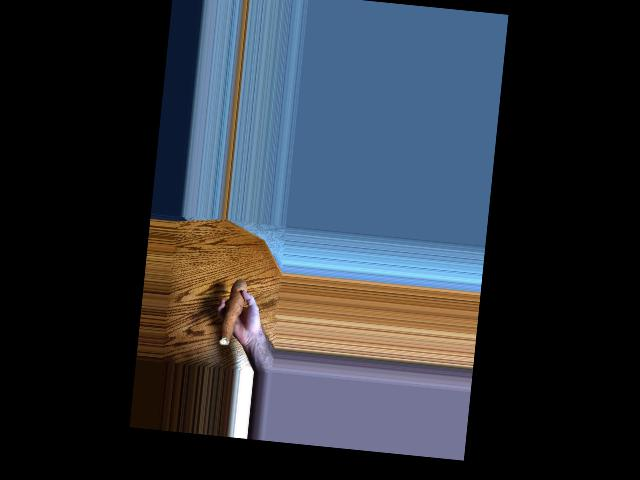sweet_potato: (216, 274, 245, 352)
